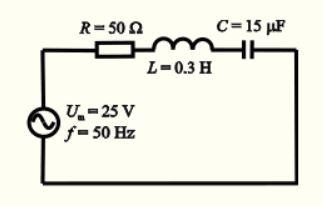inductor: (143, 32, 225, 63)
